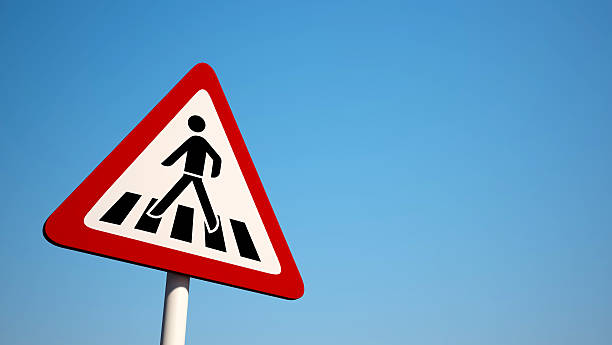pedestrian: (83, 89, 284, 278)
